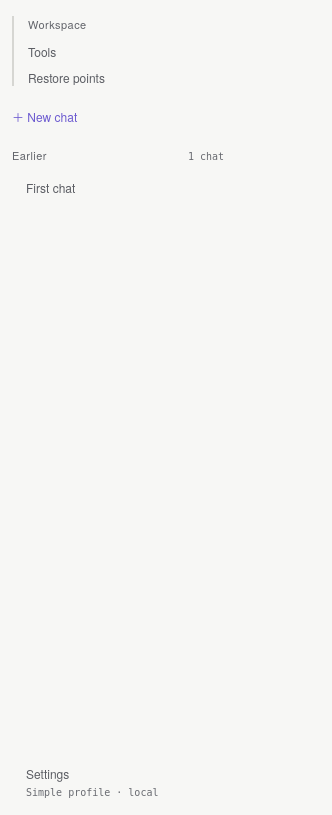
Scenario: sidebar chat rename › double-click opens an inline editor prefilled with the title
This screenshot has width=332, height=815.
Double-click the button "First chat" at (118, 188), box top-left (12, 173), bottom-right (224, 202)
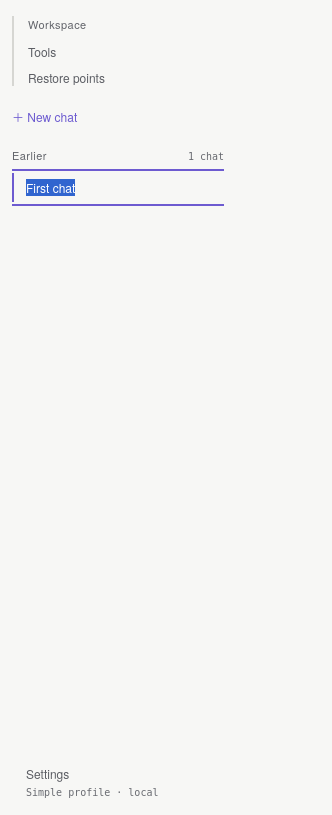
Expected: the field named "Rename chat" holds "First chat", top-left (12, 173), bottom-right (224, 202)
